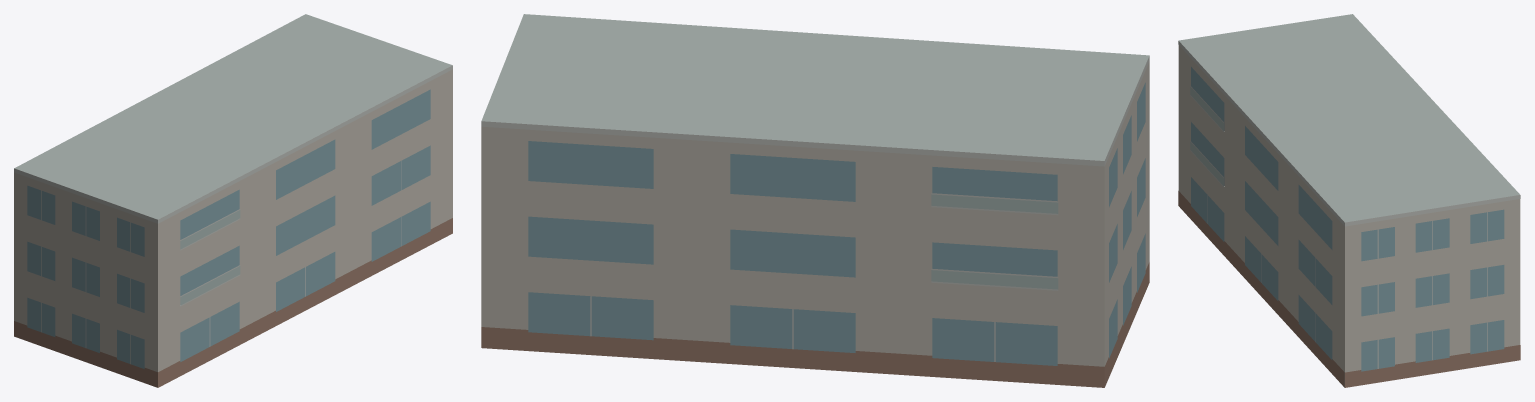
File: survey-upis-32844176.glb
3 views of the same model, side by side, from view 1: azimuth 30°, elevation 25°; view 2: azimuth 150°, elevation 25°; view 3: azimuth 270°, elevation 25° (orthographic). The views are drawn at different scales.
Visible parts, largest first — view 1: survey-upis-32844176.tmp; view 2: survey-upis-32844176.tmp; view 3: survey-upis-32844176.tmp.
Part boxes in pixels (bbox=[...]): survey-upis-32844176.tmp: bbox=[14, 14, 452, 387]; survey-upis-32844176.tmp: bbox=[481, 14, 1149, 387]; survey-upis-32844176.tmp: bbox=[1178, 14, 1520, 387].
Size of the model in its own units: 27.33 by 10.1 by 18.94.
